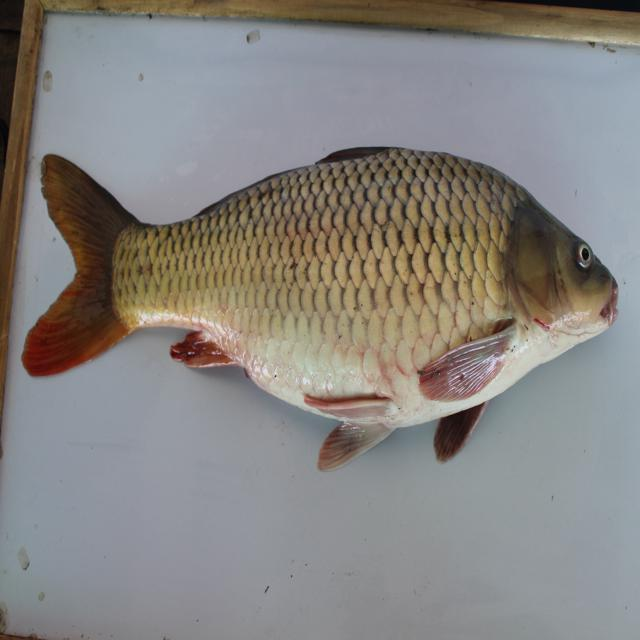CommonCarp: (29, 129, 626, 471)
